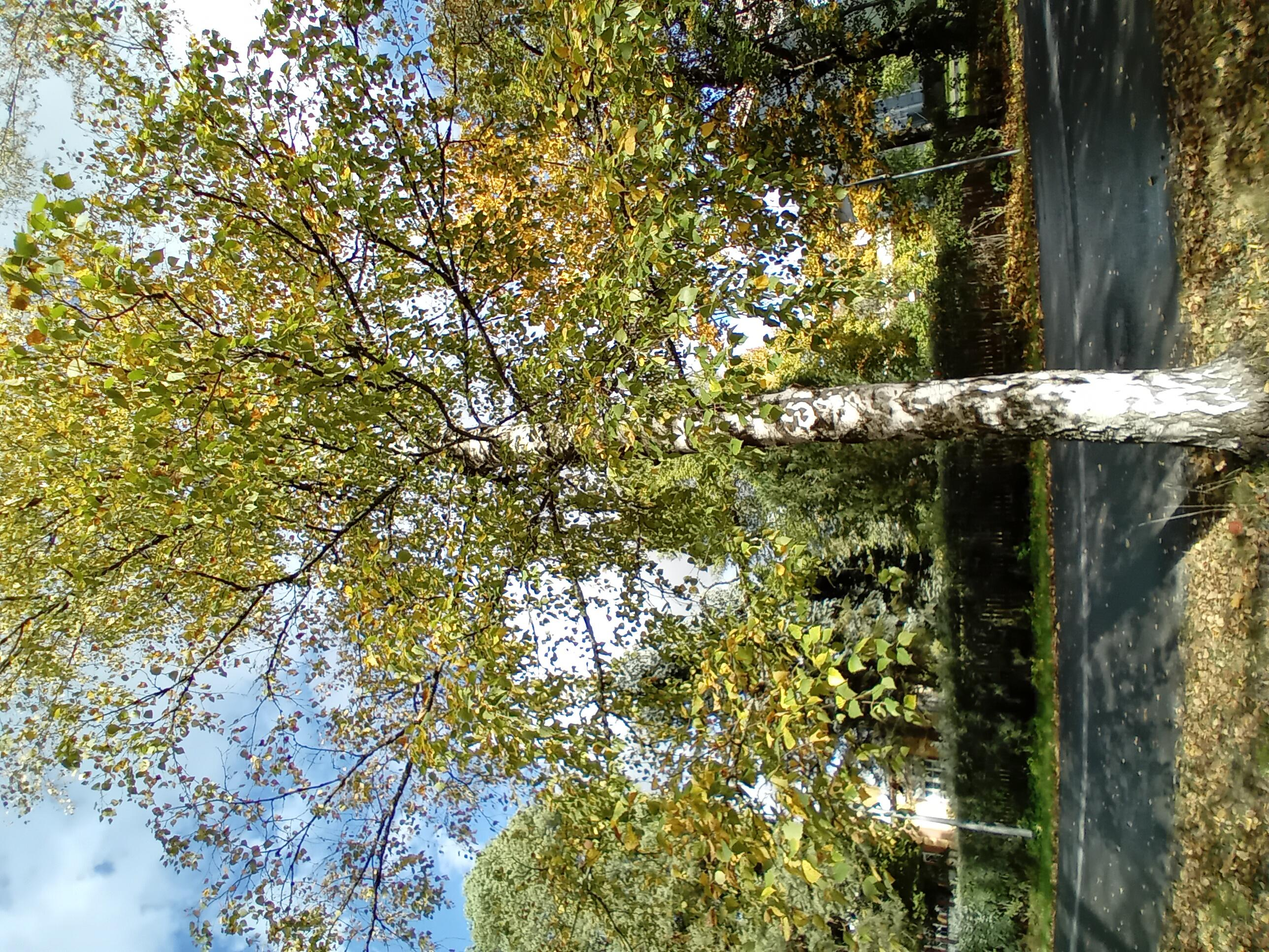Birch: (1, 0, 1267, 950), (198, 0, 1080, 952)
